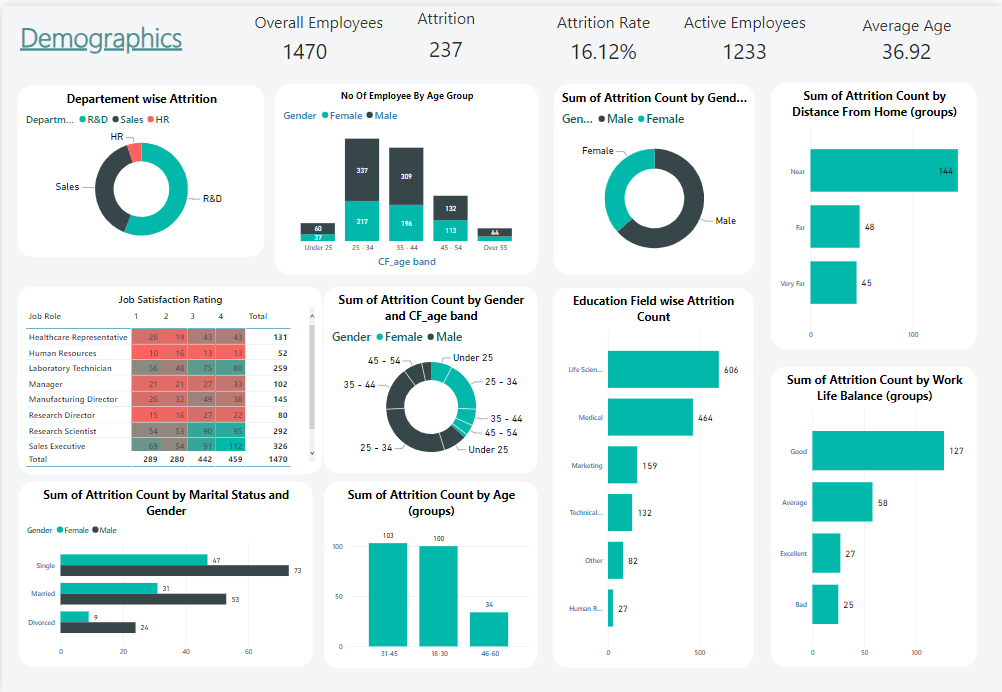

Layout of this report page (visuals, bound fields, positions):
{"tool":"powerbi","page":{"name":"Page 1","canvas":[1600,1100],"ordinal":1},"visuals":[{"type":"card","title":"Average Age","fields":{"Values":["Avg(HR data.Age)"]},"box":[1354.6,8.6,187.2,87.2],"z":0,"group":"g1"},{"type":"card","title":"Attrition Rate","fields":{"Values":["HR data.Attrition Rate"]},"box":[848.2,8.5,183,95.7],"z":1000,"group":"g1"},{"type":"donutChart","title":"Departement wise Attrition","fields":{"Category":["HR data.Department"],"Y":["Sum(HR data.Attrition Count)"]},"box":[23.9,125.4,397,276.1],"z":2000},{"type":"card","title":"Attrition","fields":{"Values":["Sum(HR data.Attrition Count)"]},"box":[653.9,6.4,136.2,102.1],"z":3000,"group":"g1"},{"type":"columnChart","title":"No Of Employee By Age Group","fields":{"Category":["HR data.CF_age band"],"Y":["Sum(HR data.Employee Count)"],"Series":["HR data.Gender"]},"box":[436.7,124.5,422.4,306.1],"z":4000},{"type":"card","title":"Overall Employees","fields":{"Values":["Sum(HR data.Employee Count)"]},"box":[355.3,7.7,240.4,106.4],"z":5000,"group":"g1"},{"type":"pivotTable","title":"Job Satisfaction Rating","fields":{"Rows":["HR data.Job Role"],"Columns":["HR data.Job Satisfaction"],"Values":["Sum(HR data.Employee Count)"]},"box":[23.9,447.8,489.6,301.5],"z":6000},{"type":"card","title":"Active Employees","fields":{"Values":["HR data.Active Employees"]},"box":[1065.3,5.6,240.4,97.9],"z":7000,"group":"g1"},{"type":"clusteredBarChart","title":"Education Field wise Attrition Count ","fields":{"Y":["Sum(HR data.Employee Count)"],"Category":["HR data.Education Field"]},"box":[880.8,450,323.1,609.6],"z":8000},{"type":"donutChart","fields":{"Category":["HR data.Gender"],"Y":["Sum(HR data.Attrition Count)"],"Series":["HR data.CF_age band"]},"box":[514,448,344,301],"z":9000},{"type":"clusteredBarChart","fields":{"Category":["HR data.Work Life Balance (groups)"],"Y":["Sum(HR data.Attrition Count)"]},"box":[1230.8,576.9,330.8,482.7],"z":10000},{"type":"barChart","fields":{"Y":["Sum(HR data.Attrition Count)"],"Category":["HR data.Distance From Home (groups)"]},"box":[1230.6,122.4,330.6,428.6],"z":11000},{"type":"columnChart","fields":{"Y":["Sum(HR data.Attrition Count)"],"Category":["HR data.Age (groups)"]},"box":[514,760,344,300],"z":12000},{"type":"clusteredBarChart","fields":{"Category":["HR data.Marital Status"],"Y":["Sum(HR data.Attrition Count)"],"Series":["HR data.Gender"]},"box":[26.1,760.9,471.7,297.8],"z":13000},{"type":"donutChart","fields":{"Category":["HR data.Gender"],"Y":["Sum(HR data.Attrition Count)"]},"box":[881.6,124.5,322.4,306.1],"z":14000},{"type":"textbox","box":[23.9,13,367.4,76.1],"z":15000},{"type":"group","id":"g1","title":"Group 1","box":[355.3,5.6,1186.6,108.5],"z":15001}]}

Visuals, with their boxes in screenshot pixels (x1, y1, x2, y2), scaled from the page's 1600x1100 canvas onto the 1002x692 screenshot:
"Average Age" card: box(848, 5, 966, 60)
"Attrition Rate" card: box(531, 5, 646, 66)
"Departement wise Attrition" donutChart: box(15, 79, 264, 253)
"Attrition" card: box(410, 4, 495, 68)
"No Of Employee By Age Group" columnChart: box(273, 78, 538, 271)
"Overall Employees" card: box(223, 5, 373, 72)
"Job Satisfaction Rating" pivotTable: box(15, 282, 322, 471)
"Active Employees" card: box(667, 4, 818, 65)
"Education Field wise Attrition Count " clusteredBarChart: box(552, 283, 754, 667)
donutChart - HR data.Gender x Sum(HR data.Attrition Count): box(322, 282, 537, 471)
clusteredBarChart - HR data.Work Life Balance (groups) x Sum(HR data.Attrition Count): box(771, 363, 978, 667)
barChart - Sum(HR data.Attrition Count) x HR data.Distance From Home (groups): box(771, 77, 978, 347)
columnChart - Sum(HR data.Attrition Count) x HR data.Age (groups): box(322, 478, 537, 667)
clusteredBarChart - HR data.Marital Status x Sum(HR data.Attrition Count): box(16, 479, 312, 666)
donutChart - HR data.Gender x Sum(HR data.Attrition Count): box(552, 78, 754, 271)
textbox: box(15, 8, 245, 56)
"Group 1" group: box(223, 4, 966, 72)
